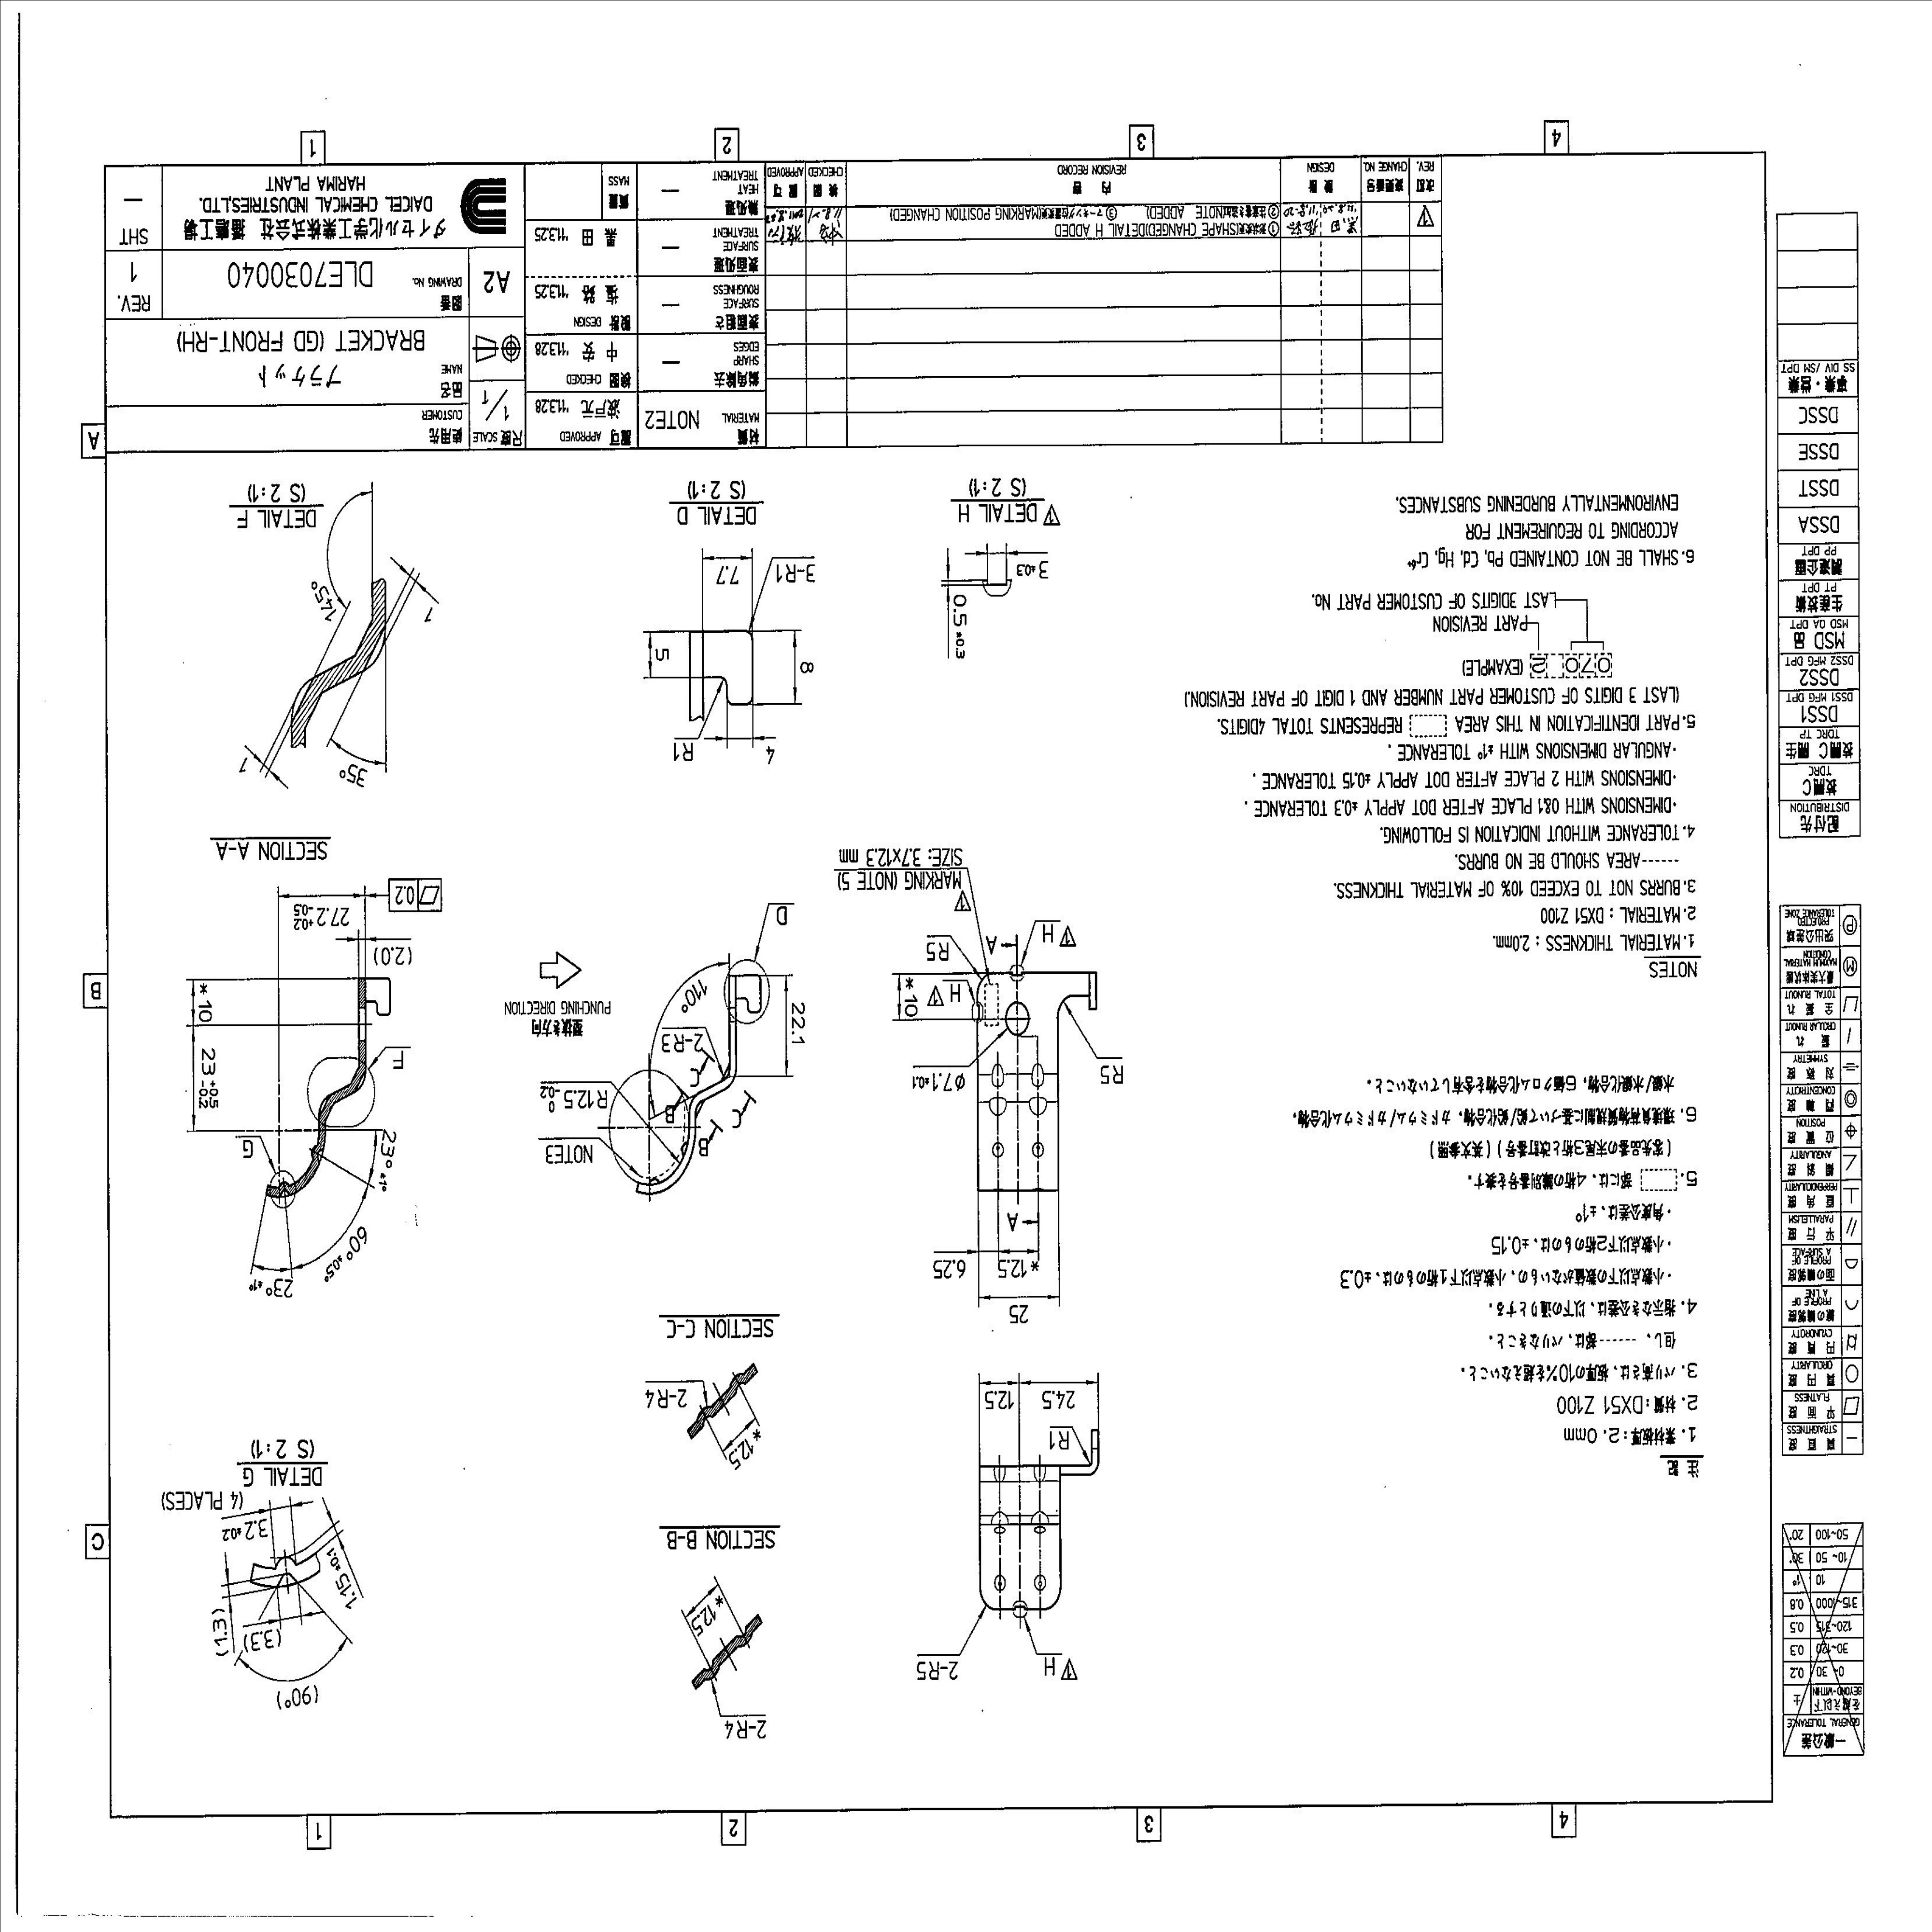InnerContour: (1003, 1000, 1031, 1039)
Notch: (975, 1003, 982, 1021), (1010, 970, 1023, 978), (1014, 1605, 1026, 1612)
